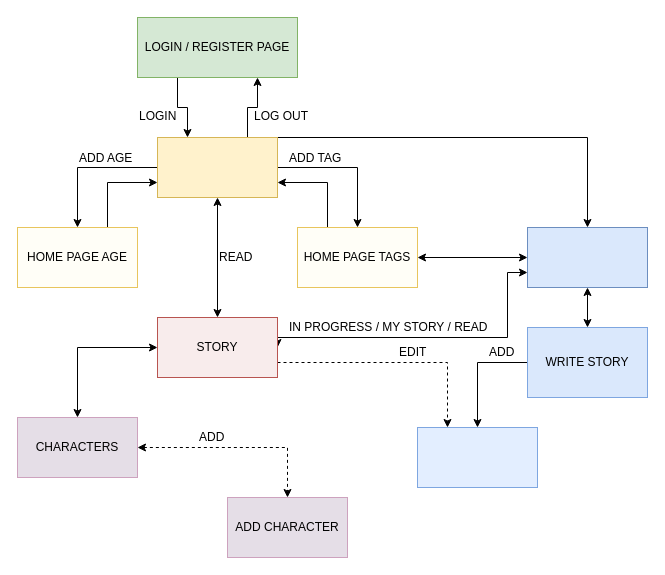
Some shapes in this 665 by 575 pixel diagram are drawn without their labels. The shapes that lost their labels are listed below. From the top down, each one's centre as x and y in pixels, then its label:
pixel 217 167: HOME PAGE
pixel 587 257: PROFILE
pixel 477 457: WRITE PAGES
